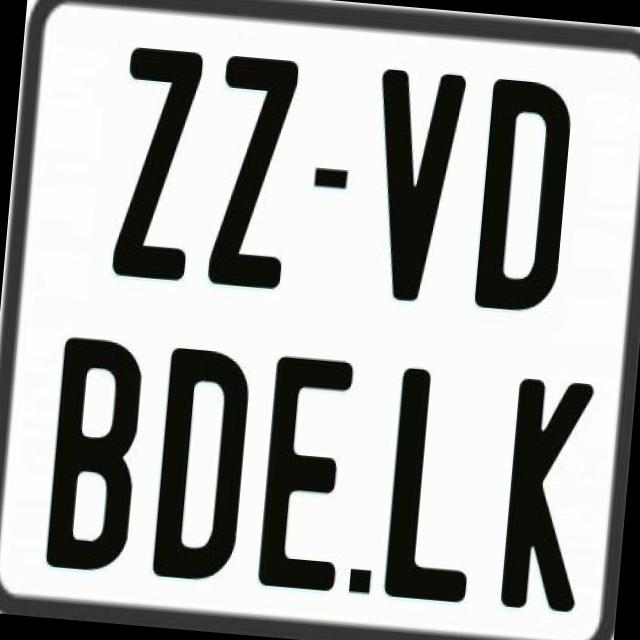B: (43, 331, 148, 572)
D: (474, 78, 582, 319), (150, 342, 250, 585)
E: (254, 352, 360, 592)
K: (499, 376, 601, 616)
L: (381, 364, 484, 599)
V: (363, 67, 468, 307)
Z: (106, 46, 203, 290), (204, 52, 296, 292)
